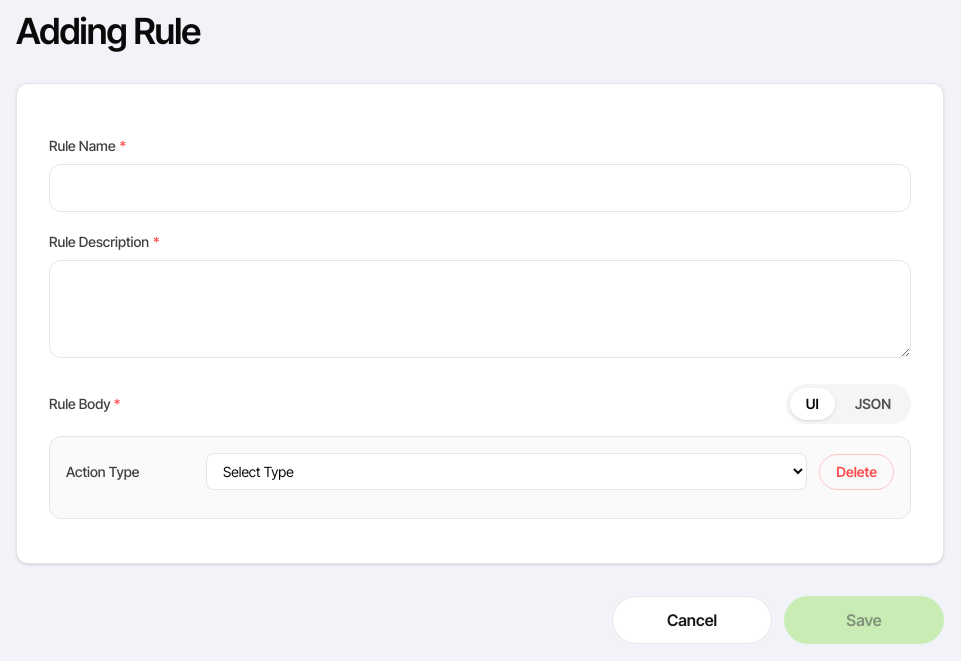
it: AddRulePage (component integration, real RuleForm/ActionEditor) › keeps Save disabled until the form becomes dirty
Expected: the button "Save" is disabled, [784,596,944,644]
Type "My rule" into the field labelled "Rule Name*" at coordinates (480, 188), box [49,164,911,212]
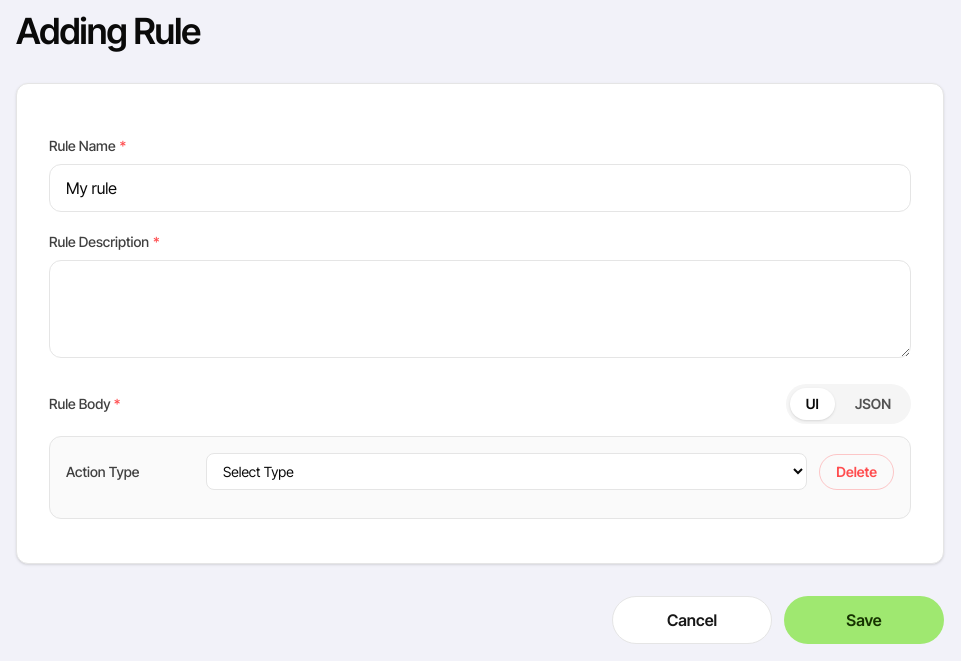
Expected: the button "Save" is enabled, [784,596,944,644]
